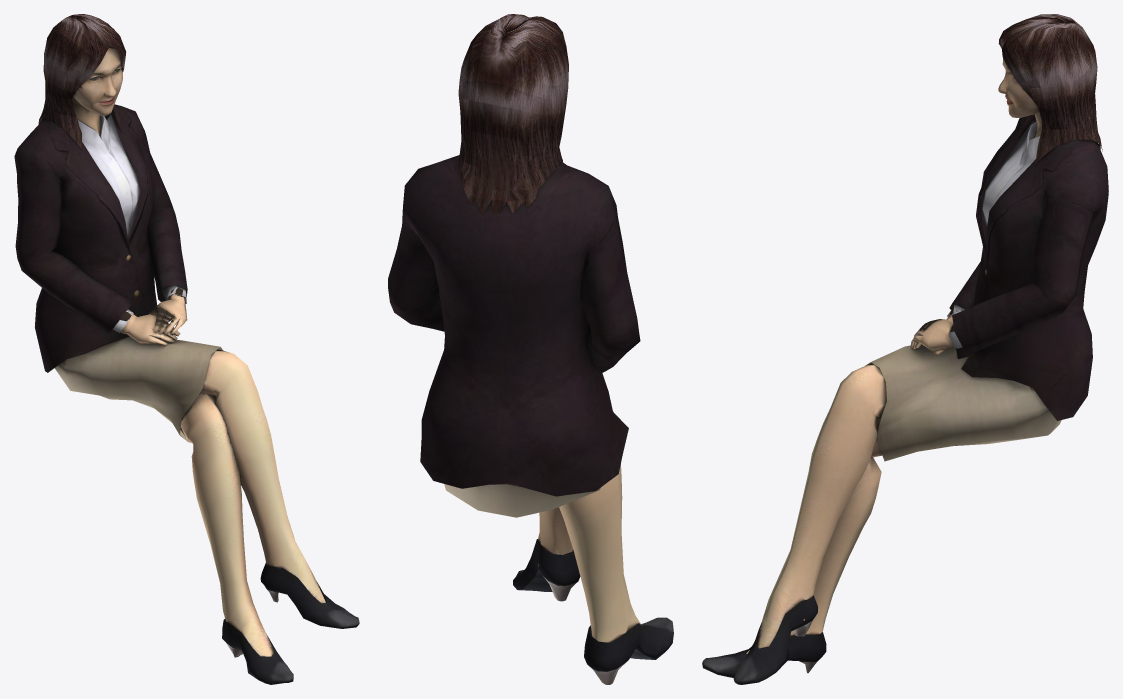
The model's file is SWT01_09_02.fbx.
3 views of the same model, side by side, from view 1: azimuth 30°, elevation 25°; view 2: azimuth 150°, elevation 25°; view 3: azimuth 270°, elevation 25° (orthographic). The views are drawn at different scales.
Visible parts, largest first — view 1: WAIT01_09_02; view 2: WAIT01_09_02; view 3: WAIT01_09_02.
Boxes of the visible parts, box(x1,y1,x2,y2) form: WAIT01_09_02: box(14, 14, 359, 684); WAIT01_09_02: box(388, 14, 673, 684); WAIT01_09_02: box(702, 14, 1108, 684).
Size of the model in its own units: 22.5 by 57.68 by 33.78.
